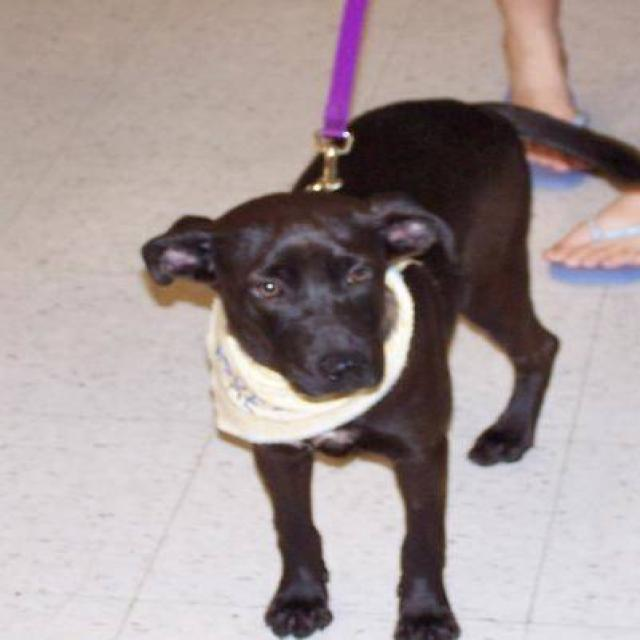dog: (139, 96, 638, 639)
